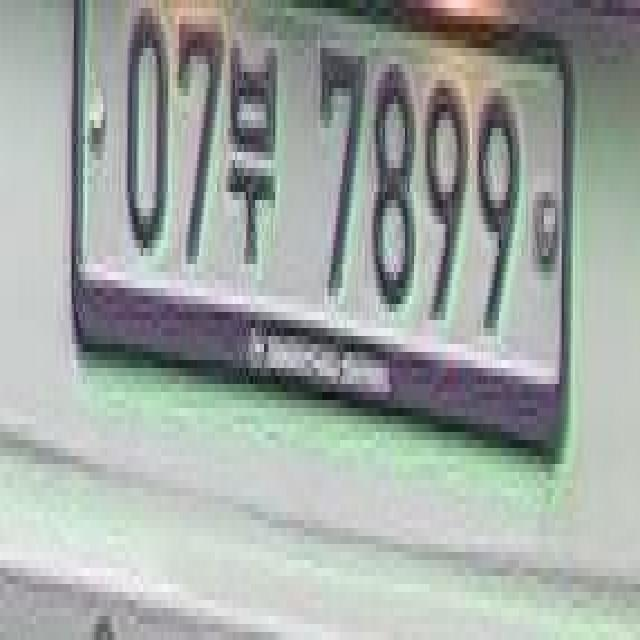illegal_plate: (72, 7, 580, 477)
